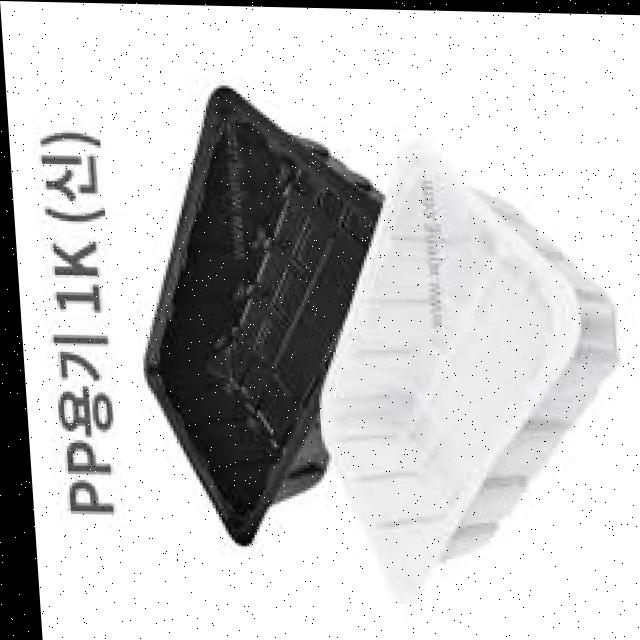disposable: (288, 128, 640, 620), (96, 79, 424, 541)
